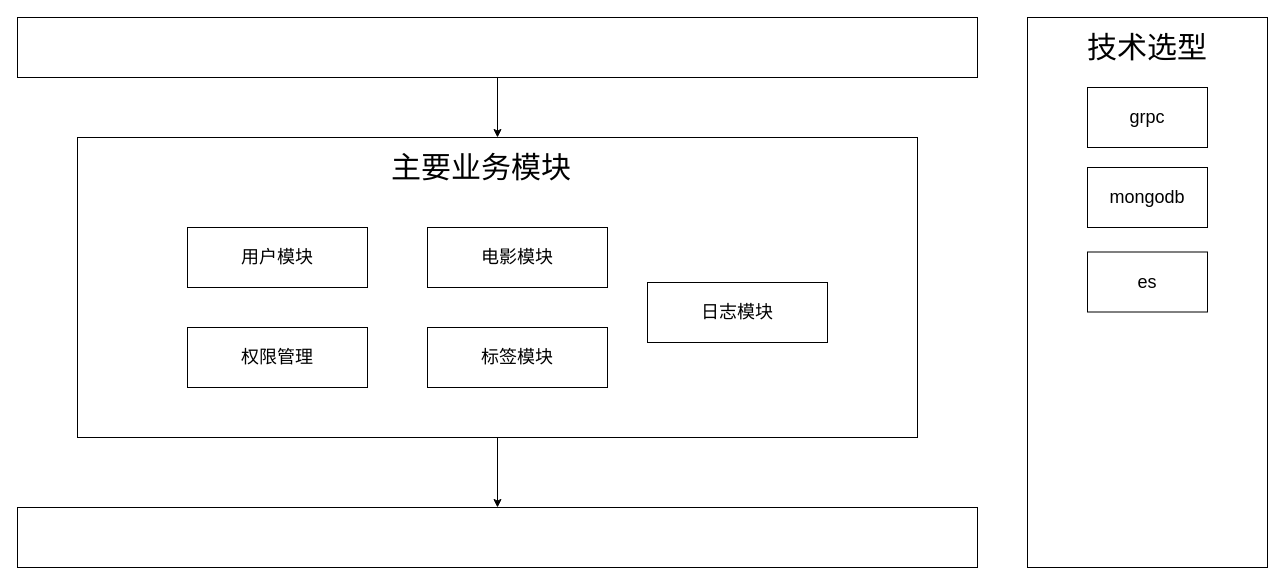
Image size: 1285x585. Some labels were removed from this diagram. Each missing label, with the centre of its shape:
GRPC-GATEWAY: (x=497, y=47)
存储层: (x=497, y=537)
